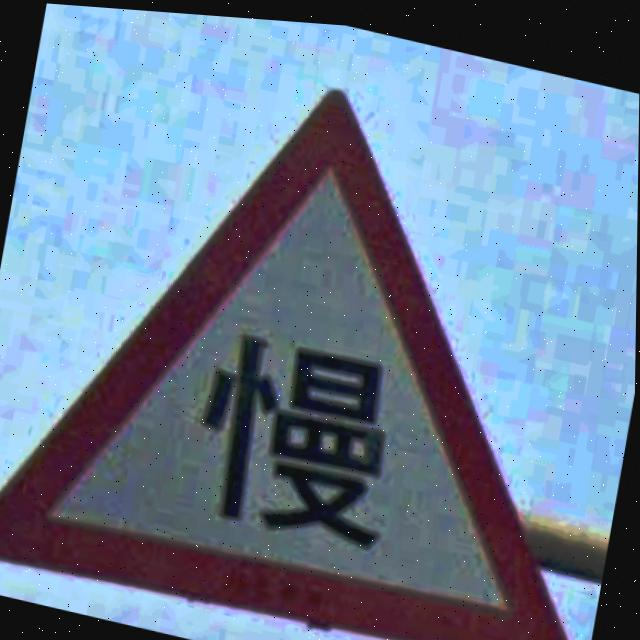slow: (0, 85, 576, 640)
